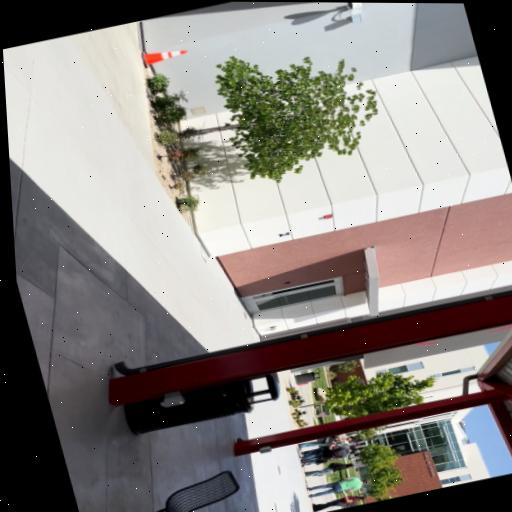target6: (278, 231, 290, 237)
